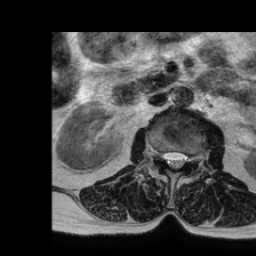CCS_normal: (170, 145, 177, 178)
LFS_normal: (187, 146, 195, 170)
LLS_normal: (177, 145, 187, 173)
RFS_normal: (156, 143, 162, 168)
RLS_normal: (162, 144, 170, 170)
